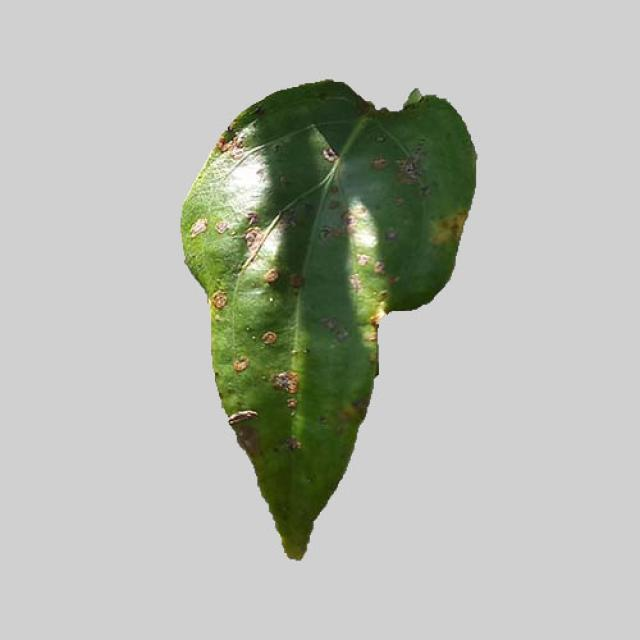yellow-mottle-virus: (168, 86, 494, 563)
